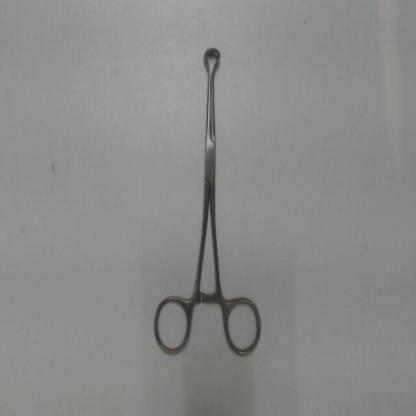Babcock Tissue Forceps: (151, 41, 266, 361)
